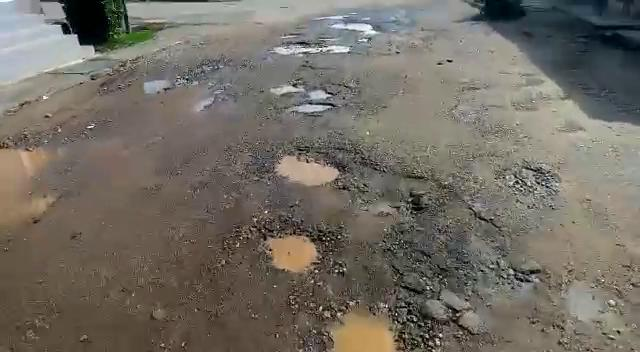pothole: (323, 304, 399, 352), (270, 149, 345, 186), (261, 231, 322, 271), (267, 39, 345, 55), (268, 84, 336, 98), (285, 99, 336, 114), (333, 19, 385, 32)
